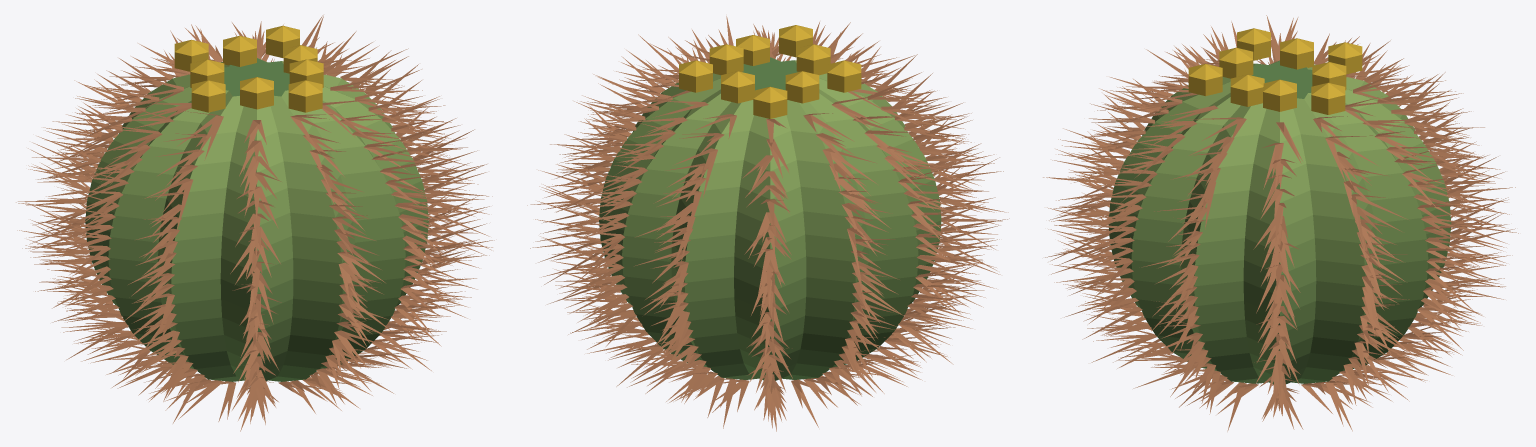
File: barrel.glb
The picture shows the model from 3 angles, left to right: view 1: azimuth 30°, elevation 25°; view 2: azimuth 150°, elevation 25°; view 3: azimuth 270°, elevation 25°; orthographic projection.
Parts seen in each view (by area): view 1: Body, Flowers; view 2: Body, Flowers; view 3: Body, Flowers.
Part boxes in pixels (box(x1,y1,x2,y2)): Body: box(16, 15, 494, 431); Flowers: box(174, 25, 323, 112); Body: box(527, 16, 1009, 431); Flowers: box(679, 25, 861, 118); Body: box(1043, 15, 1518, 431); Flowers: box(1188, 28, 1362, 114).
Size of the model in its own units: 1.94 by 1.45 by 1.91.
